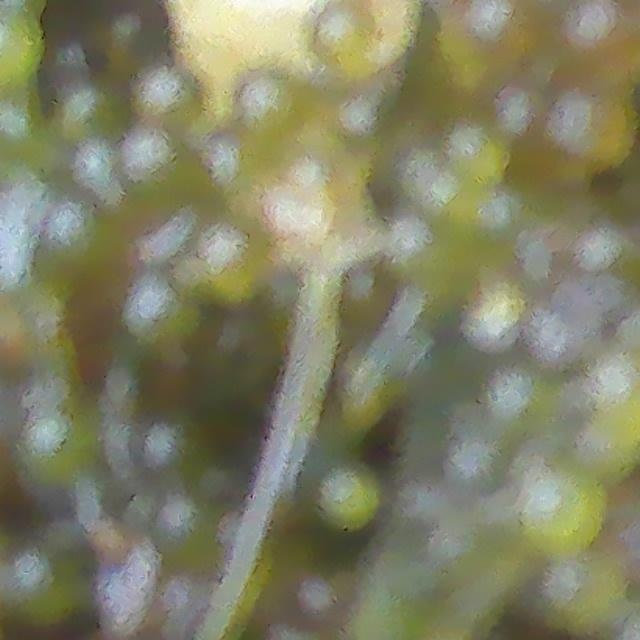SeaGrape: (514, 464, 613, 565), (546, 82, 633, 170), (36, 198, 116, 282), (13, 410, 94, 491), (555, 0, 640, 76), (304, 0, 378, 81), (0, 546, 85, 616), (547, 559, 626, 634), (196, 222, 271, 298), (233, 68, 307, 144), (120, 272, 193, 344), (462, 0, 542, 64), (318, 464, 386, 530), (131, 70, 201, 130), (49, 85, 119, 143), (492, 93, 556, 155), (334, 266, 391, 334), (0, 97, 46, 170), (117, 126, 175, 183)
